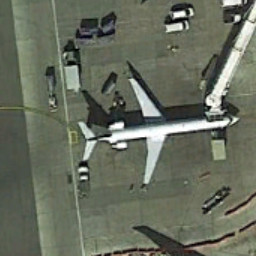Airplane: (70, 68, 245, 192)
